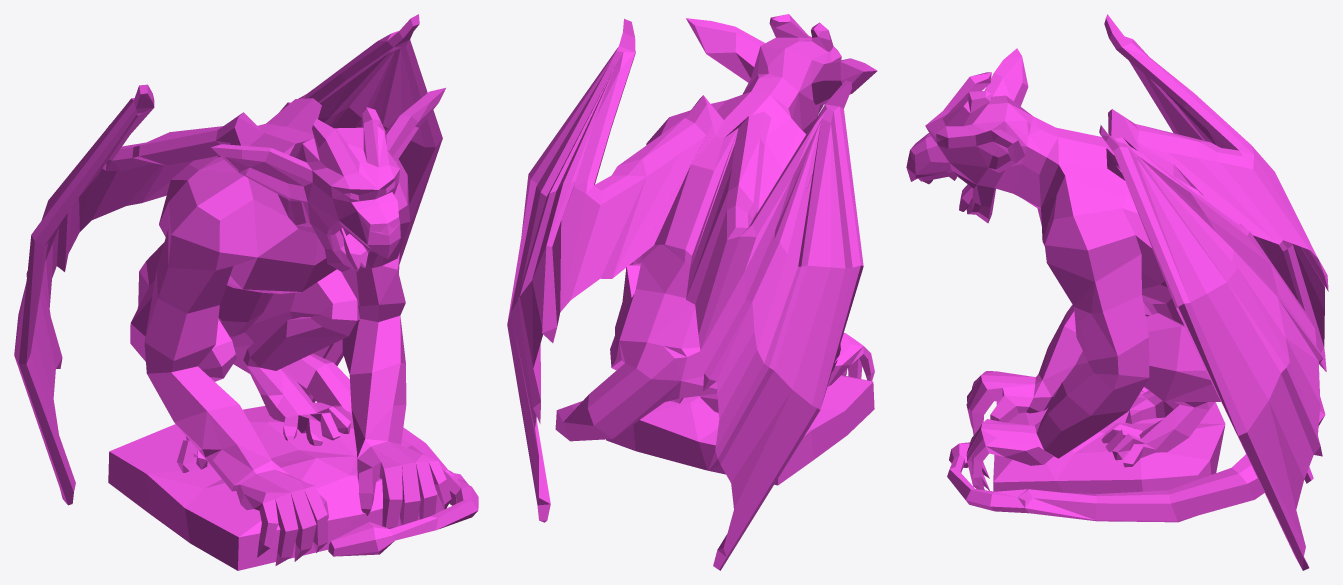
File: SM_Statue_Gargoyle_Fantasy.fbx
The picture shows the model from 3 angles, left to right: view 1: azimuth 30°, elevation 25°; view 2: azimuth 150°, elevation 25°; view 3: azimuth 270°, elevation 25°; orthographic projection. The views are drawn at different scales.
Visible parts, largest first — view 1: SM_Statue_Gargoyle_Fantasy; view 2: SM_Statue_Gargoyle_Fantasy; view 3: SM_Statue_Gargoyle_Fantasy.
Part boxes in pixels (x1,y1,x2,y2): SM_Statue_Gargoyle_Fantasy: (14, 14, 478, 570); SM_Statue_Gargoyle_Fantasy: (507, 14, 877, 570); SM_Statue_Gargoyle_Fantasy: (906, 14, 1328, 570).
Bounding box in the file's own units: 1.27 × 1.56 × 1.31.
